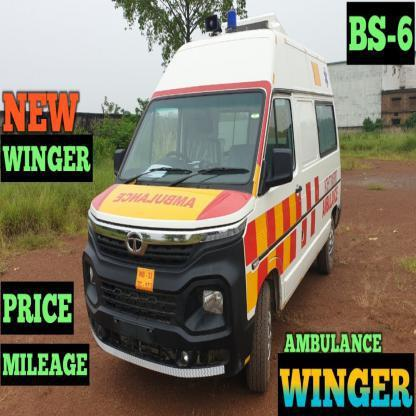Ambulance - v1 Ambulance last generate: (84, 15, 341, 369)
